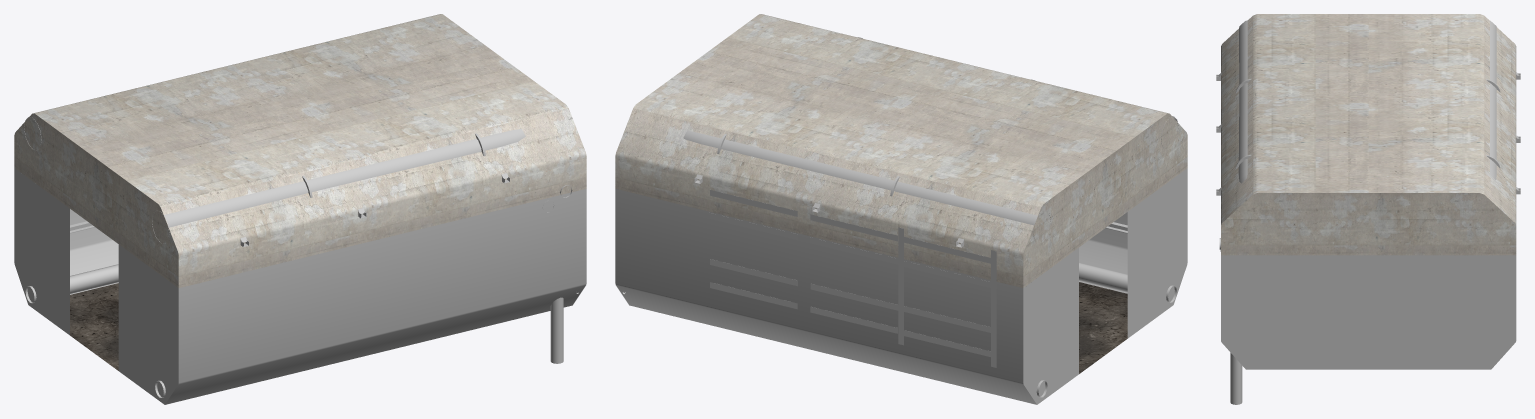
The model's file is Tech_room_1.FBX.
The picture shows the model from 3 angles, left to right: view 1: azimuth 30°, elevation 25°; view 2: azimuth 150°, elevation 25°; view 3: azimuth 270°, elevation 25°; orthographic projection. The views are drawn at different scales.
Parts seen in each view (by area): view 1: Tech_room_cell_01, Tech_room_wall_01, Tube_big, Tech_room_floor_01, Tube001, Tube_004; view 2: Tech_room_cell_01, Tech_room_wall_01, C_metal_plank008, Tube_big, C_metal_plank009, Tech_room_floor_01, Tube; view 3: Tech_room_cell_01, Tech_room_wall_01, Tube_big, Tube_004.
Part boxes in pixels (x1,y1,x2,y2): Tech_room_cell_01: (14,14,586,287); Tech_room_wall_01: (14,168,586,404); Tube_big: (24,117,525,243); Tech_room_floor_01: (70,283,118,370); Tube001: (25,264,118,303); Tube_004: (550,185,572,363); Tech_room_cell_01: (615,14,1187,287); Tech_room_wall_01: (615,168,1187,404); C_metal_plank008: (709,190,898,333); Tube_big: (683,37,1178,241); C_metal_plank009: (898,227,996,367); Tech_room_floor_01: (1079,282,1127,373); Tube: (1079,262,1176,302); Tech_room_cell_01: (1221,14,1516,255); Tech_room_wall_01: (1221,255,1516,369); Tube_big: (1235,20,1500,183); Tube_004: (1219,238,1242,404).
Size of the model in its own units: 812 by 459 by 580.
